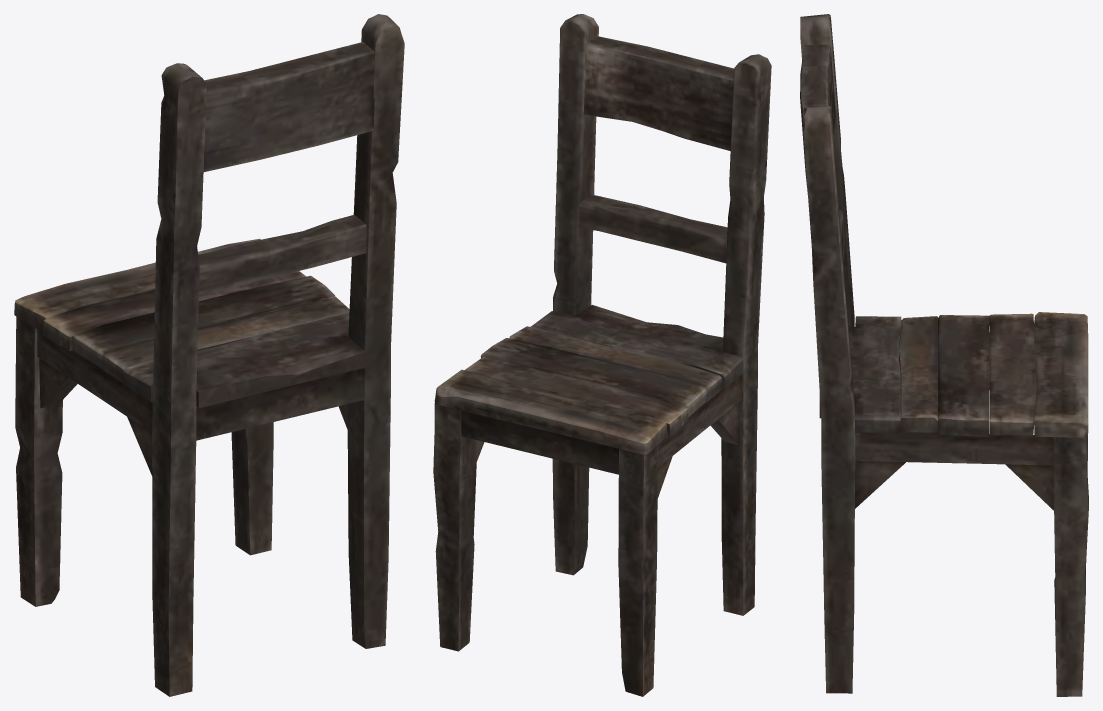
File: AEG228_128-transformed.glb
3 views of the same model, side by side, from view 1: azimuth 30°, elevation 25°; view 2: azimuth 150°, elevation 25°; view 3: azimuth 270°, elevation 25° (orthographic). The views are drawn at different scales.
Visible parts, largest first — view 1: default; view 2: default; view 3: default.
Boxes of the visible parts, x1,y1,x2,y2 form: default: [14, 14, 404, 696]; default: [433, 14, 771, 696]; default: [800, 14, 1088, 696].
Size of the model in its own units: 0.546 by 1.33 by 0.5973.
1 material, 1 textured.
